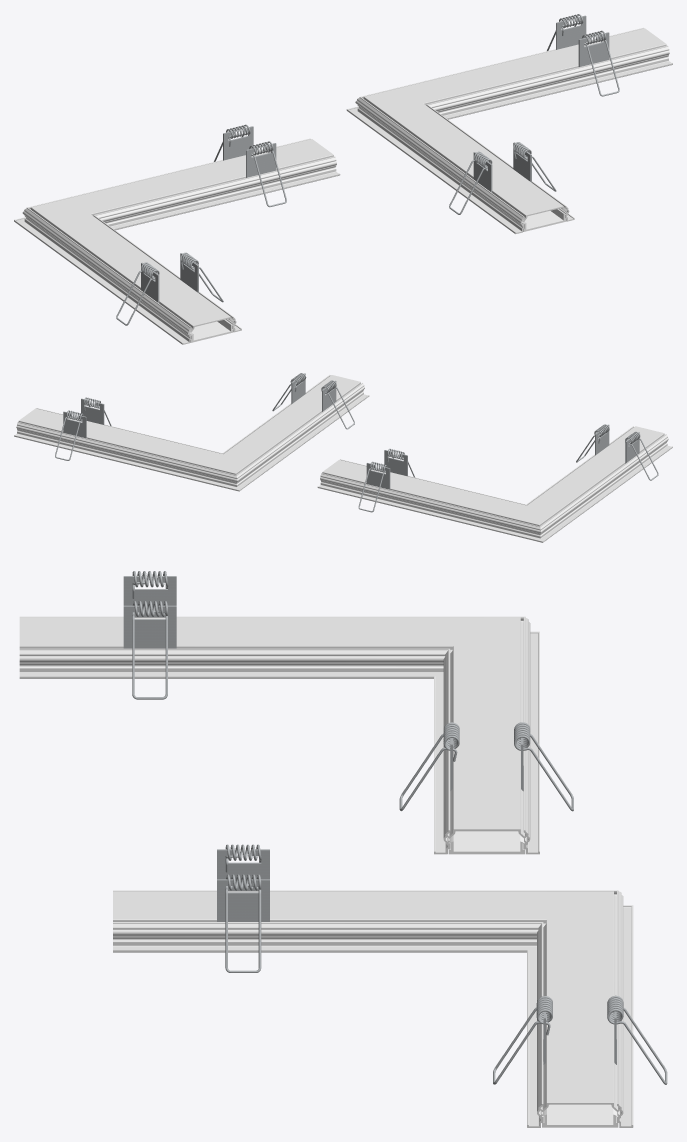
Rendered from Fit40SlimEmbutido-curva-direita-esquerda.glb.
3 views of the same model, one above another, from view 1: azimuth 30°, elevation 25°; view 2: azimuth 150°, elevation 25°; view 3: azimuth 270°, elevation 25° (orthographic). The views are drawn at different scales.
Visible parts, largest first — view 1: 3DGeom-14, 3DGeom-2, 3DGeom-1, 3DGeom-13, 3DGeom-15 (×2), 3DGeom-3 (×2), 3DGeom-7, 3DGeom-19, 3DGeom-16, 3DGeom-4; view 2: 3DGeom-14, 3DGeom-2, 3DGeom-1, 3DGeom-13, 3DGeom-3 (×3), 3DGeom-15 (×3), 3DGeom-4 (×2), 3DGeom-16 (×2); view 3: 3DGeom-1, 3DGeom-13, 3DGeom-14, 3DGeom-2, 3DGeom-3 (×2), 3DGeom-15 (×2), 3DGeom-16 (×3), 3DGeom-4 (×3), 3DGeom-8, 3DGeom-20.
Boxes of the visible parts, x1=… form: 3DGeom-14: x1=347, y1=27, x2=672, y2=119; 3DGeom-2: x1=14, y1=138, x2=340, y2=230; 3DGeom-1: x1=14, y1=207, x2=241, y2=344; 3DGeom-13: x1=346, y1=96, x2=574, y2=234; 3DGeom-15 (×2): x1=556, y1=15, x2=609, y2=66; 3DGeom-3 (×2): x1=223, y1=126, x2=276, y2=177; 3DGeom-7: x1=189, y1=319, x2=233, y2=342; 3DGeom-19: x1=522, y1=209, x2=566, y2=231; 3DGeom-16: x1=581, y1=30, x2=619, y2=96; 3DGeom-4: x1=249, y1=141, x2=286, y2=207; 3DGeom-14: x1=14, y1=408, x2=239, y2=491; 3DGeom-2: x1=317, y1=459, x2=542, y2=542; 3DGeom-1: x1=526, y1=426, x2=672, y2=542; 3DGeom-13: x1=222, y1=375, x2=369, y2=491; 3DGeom-3 (×3): x1=366, y1=432, x2=639, y2=489; 3DGeom-15 (×3): x1=63, y1=373, x2=305, y2=438; 3DGeom-4 (×2): x1=358, y1=431, x2=658, y2=512; 3DGeom-16 (×2): x1=55, y1=380, x2=354, y2=460; 3DGeom-1: x1=19, y1=616, x2=539, y2=678; 3DGeom-13: x1=113, y1=890, x2=632, y2=952; 3DGeom-14: x1=527, y1=890, x2=633, y2=1127; 3DGeom-2: x1=434, y1=616, x2=539, y2=854; 3DGeom-3 (×2): x1=123, y1=576, x2=176, y2=648; 3DGeom-15 (×2): x1=217, y1=849, x2=269, y2=921; 3DGeom-16 (×3): x1=225, y1=874, x2=667, y2=1084; 3DGeom-4 (×3): x1=132, y1=601, x2=573, y2=811; 3DGeom-8: x1=448, y1=831, x2=525, y2=854; 3DGeom-20: x1=542, y1=1104, x2=618, y2=1127.
Size of the model in its own units: 0.5774 by 0.0405 by 0.3112.
Materials: 3 (1 with a texture image).
